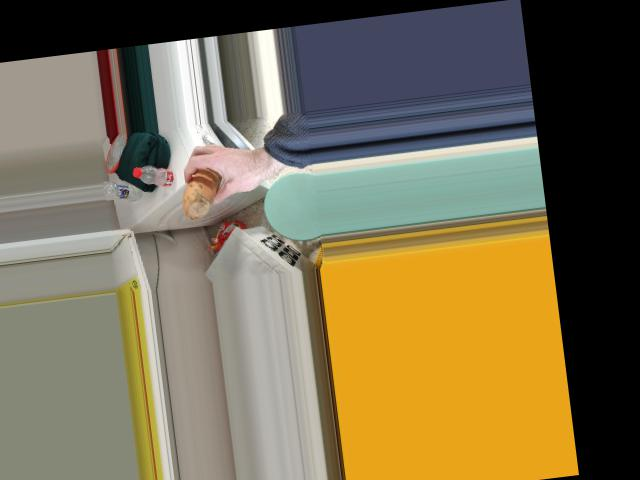sweet_potato: (176, 164, 225, 212)
